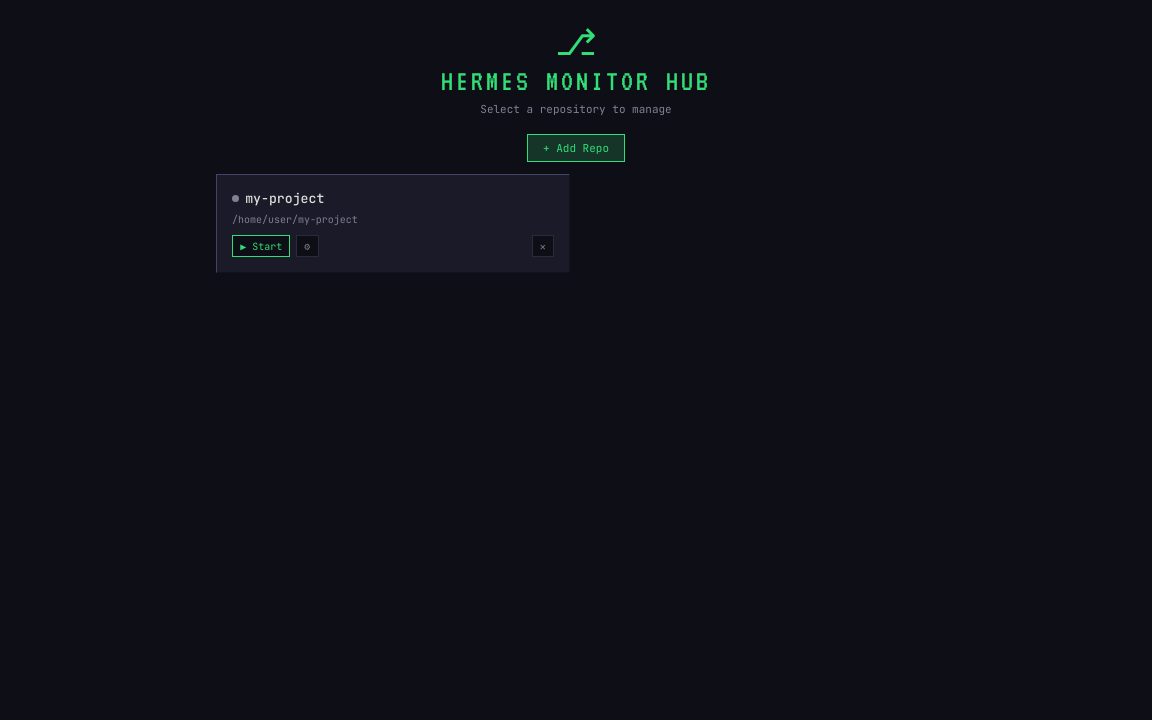
Test: HubLanding › shows confirm dialog when remove is clicked
Click the button titled "Remove" at (543, 246), box [532,235,554,257]
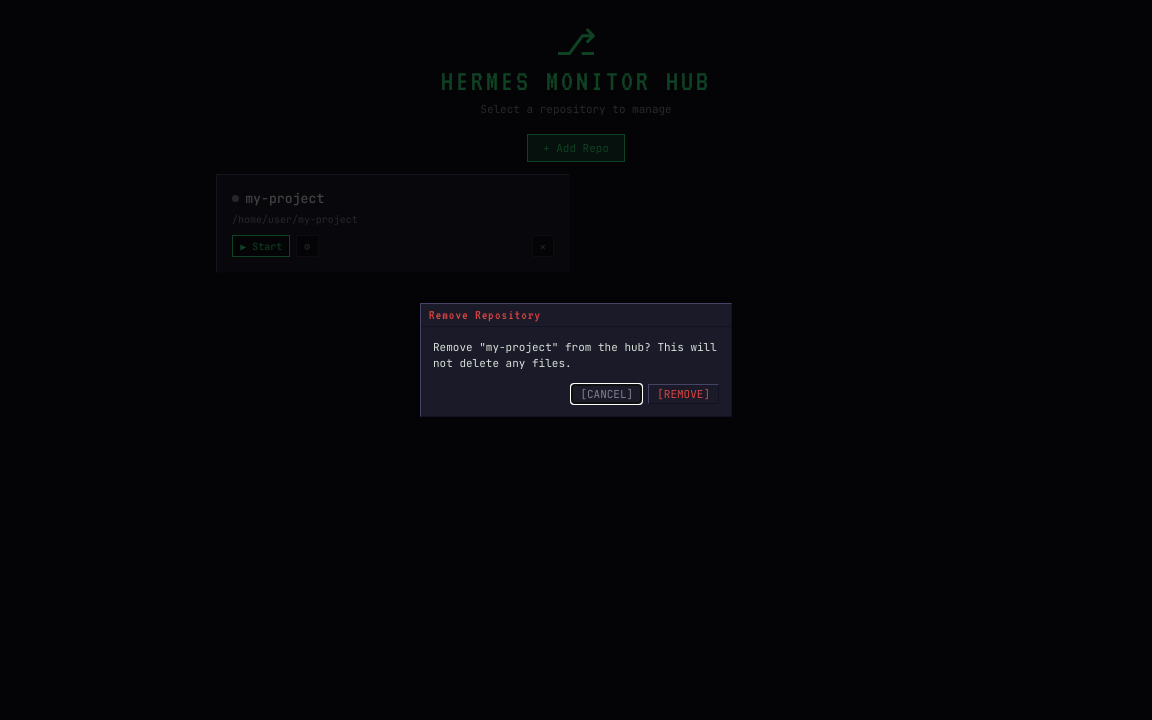
Expected: the text "Remove Repository" is shown, [429,308,541,322]
Expected: the text "Remove \"my-project\" from the hub" is shown, [433,340,723,370]
